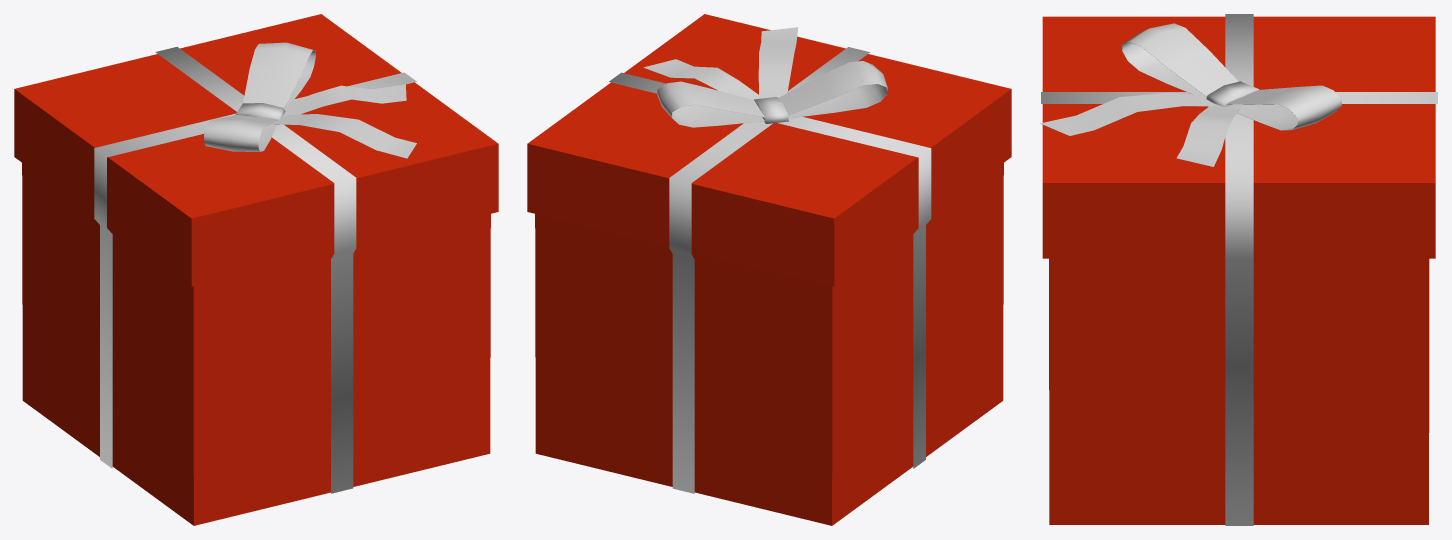
Rendered from present_03.glb.
The picture shows the model from 3 angles, left to right: view 1: azimuth 30°, elevation 25°; view 2: azimuth 150°, elevation 25°; view 3: azimuth 270°, elevation 25°; orthographic projection. The views are drawn at different scales.
Parts seen in each view (by area): view 1: gift_low; view 2: gift_low; view 3: gift_low.
Part boxes in pixels (x1,y1,x2,y2): gift_low: (14,14,498,525); gift_low: (527,14,1011,525); gift_low: (1040,14,1437,525).
Bounding box in the file's own units: 0.6641 × 0.7068 × 0.6656.
